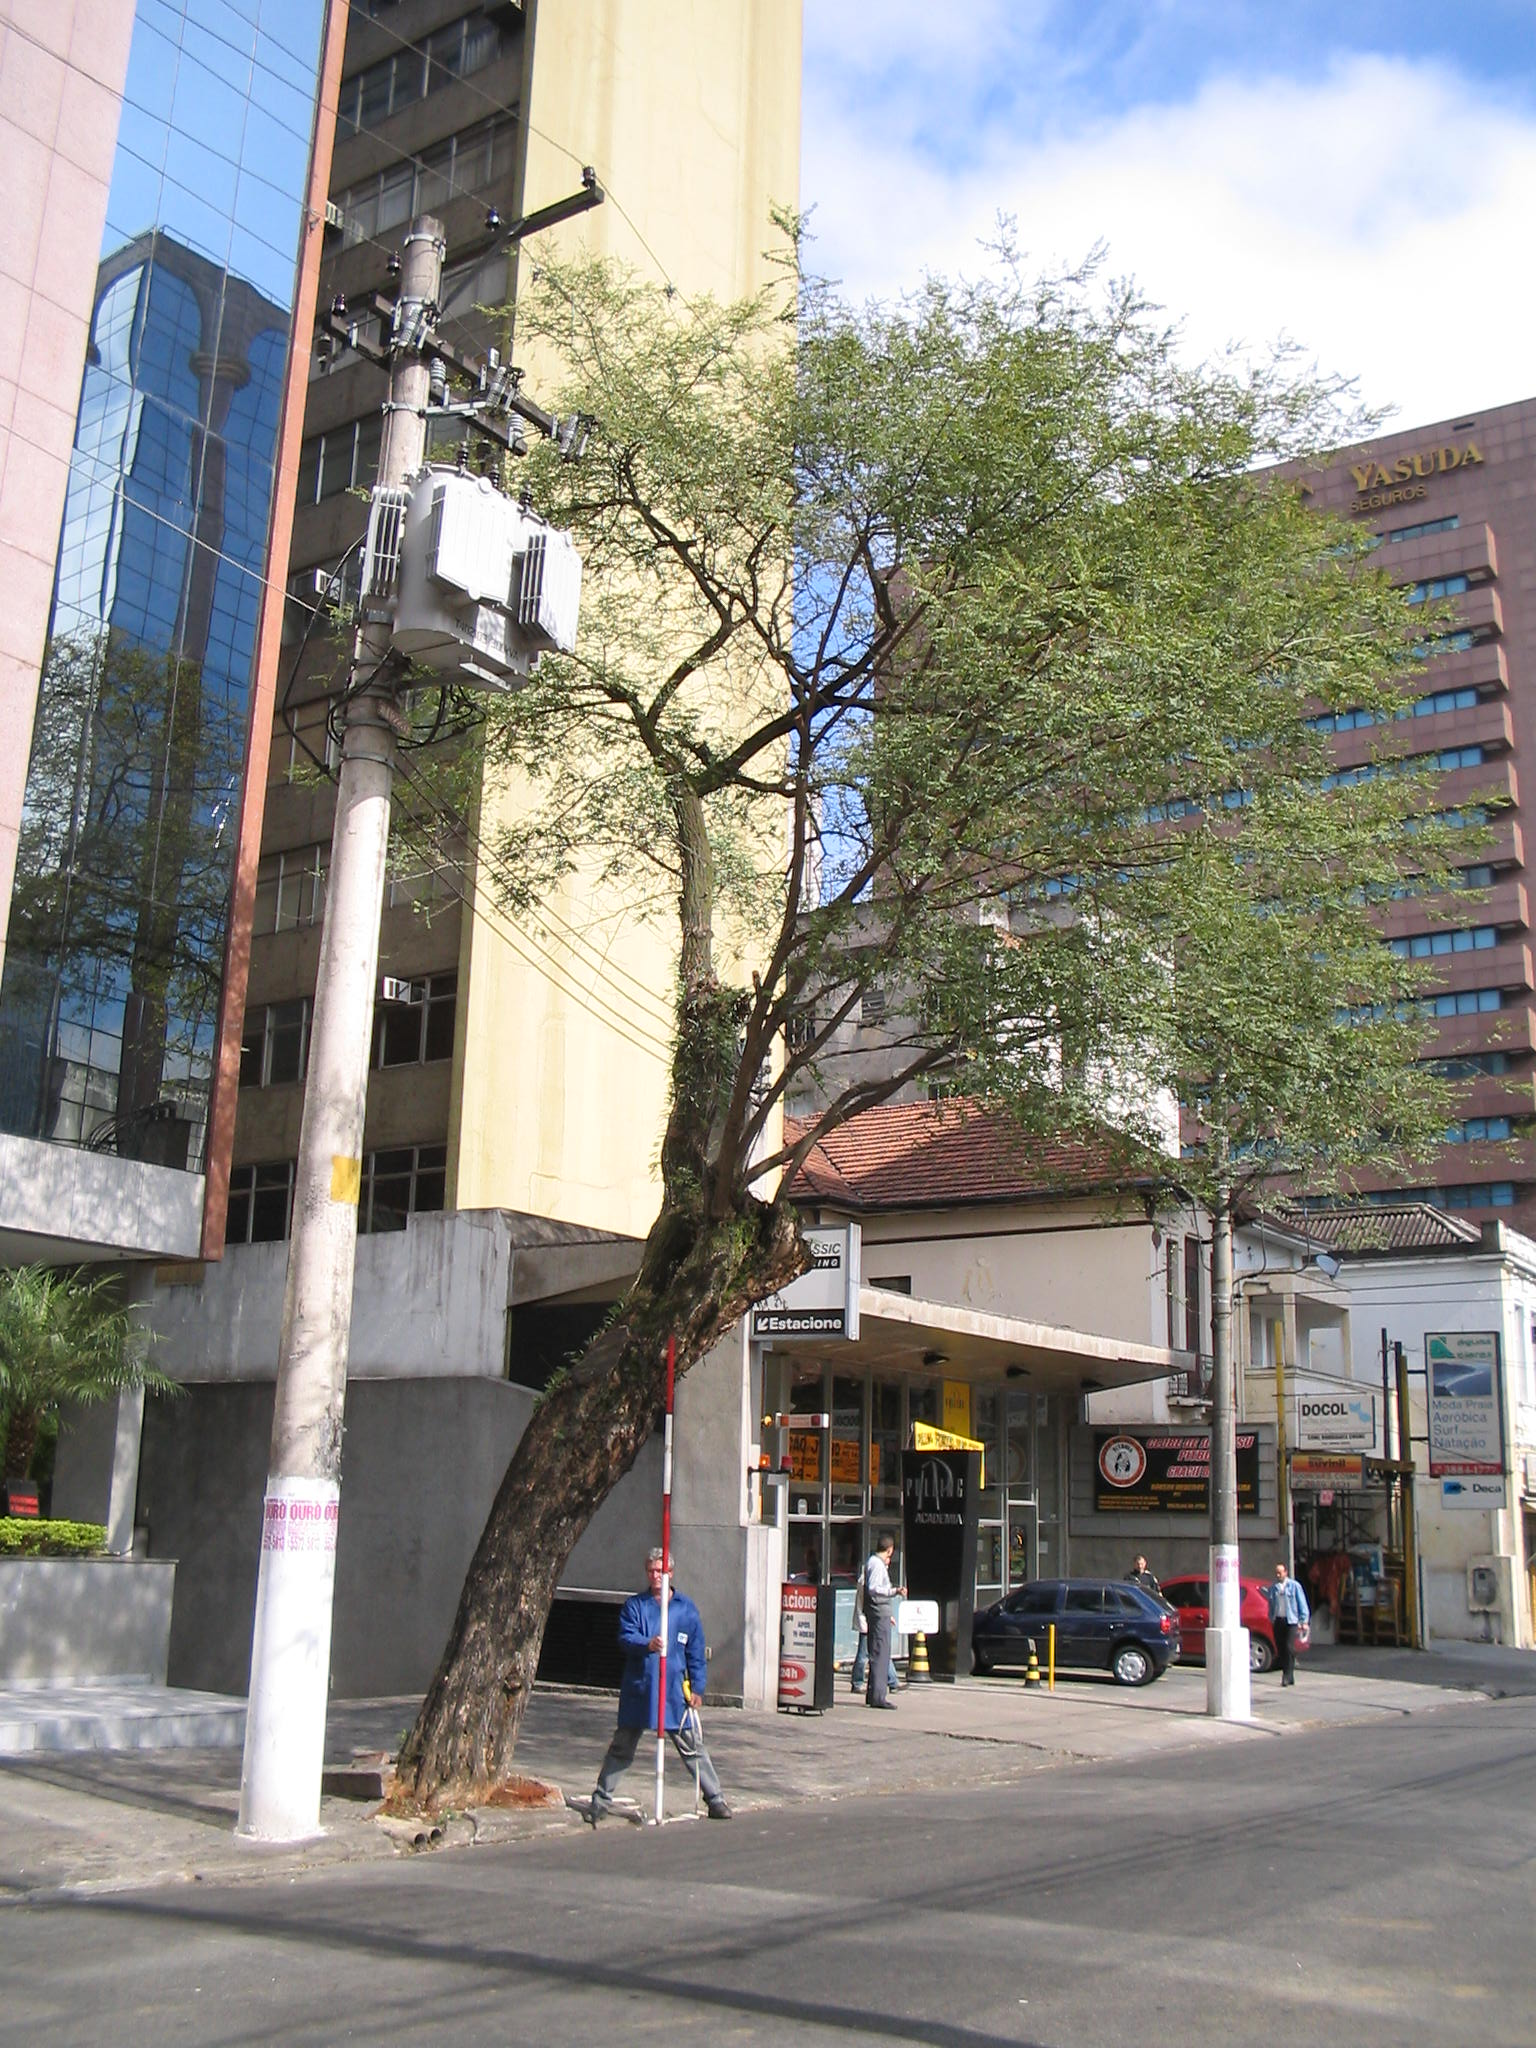crown: (290, 195, 1530, 1271)
stem: (390, 1284, 842, 1816)
stick: (645, 1340, 687, 1829)
tree: (286, 192, 1533, 1821)
